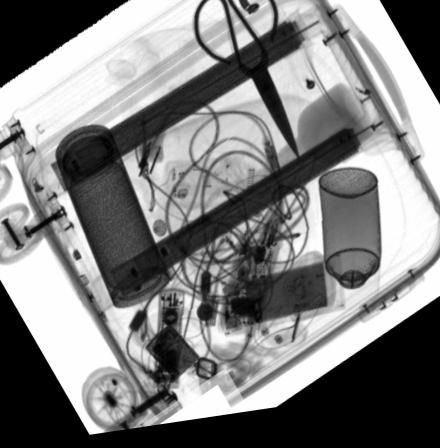Lighter: (147, 329, 201, 384)
Powerbank: (220, 260, 344, 343)
Scissors: (193, 0, 300, 171)
Sprayer: (319, 177, 380, 326)
